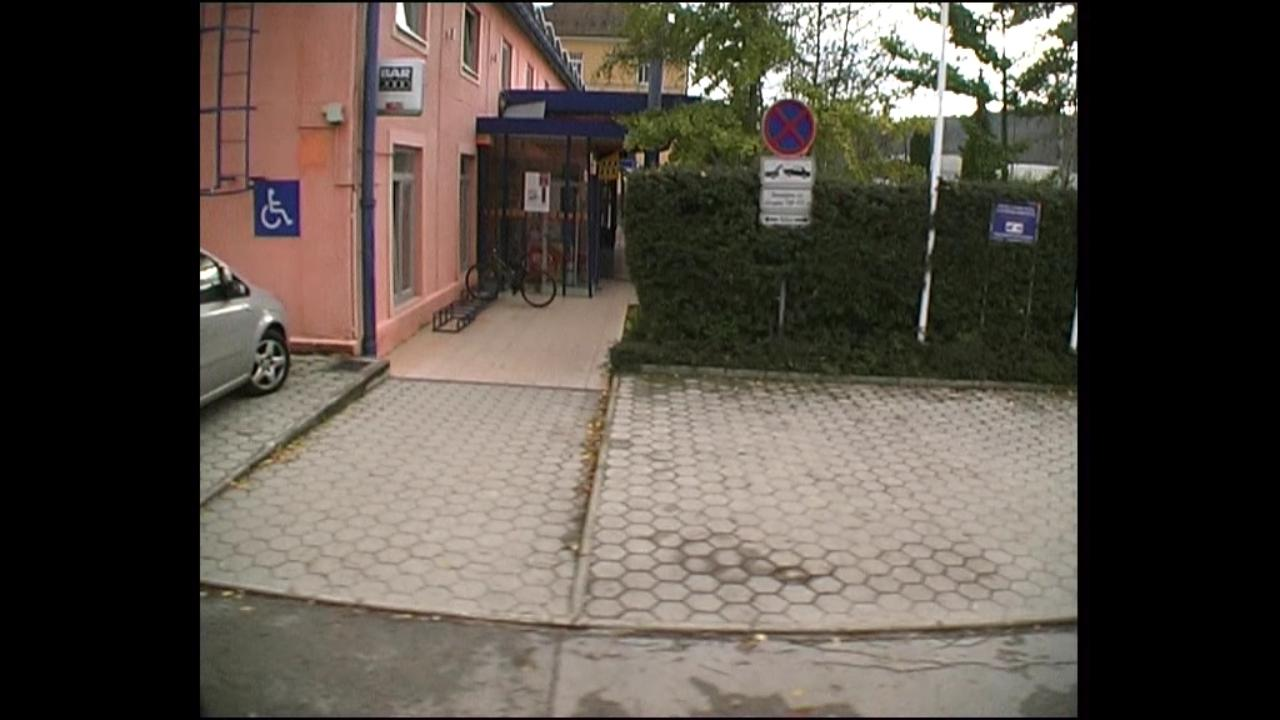Rectangle: (760, 159, 814, 186), (760, 187, 814, 210), (760, 214, 814, 226)
Round: (762, 98, 818, 158)
Squared: (251, 177, 299, 239)
